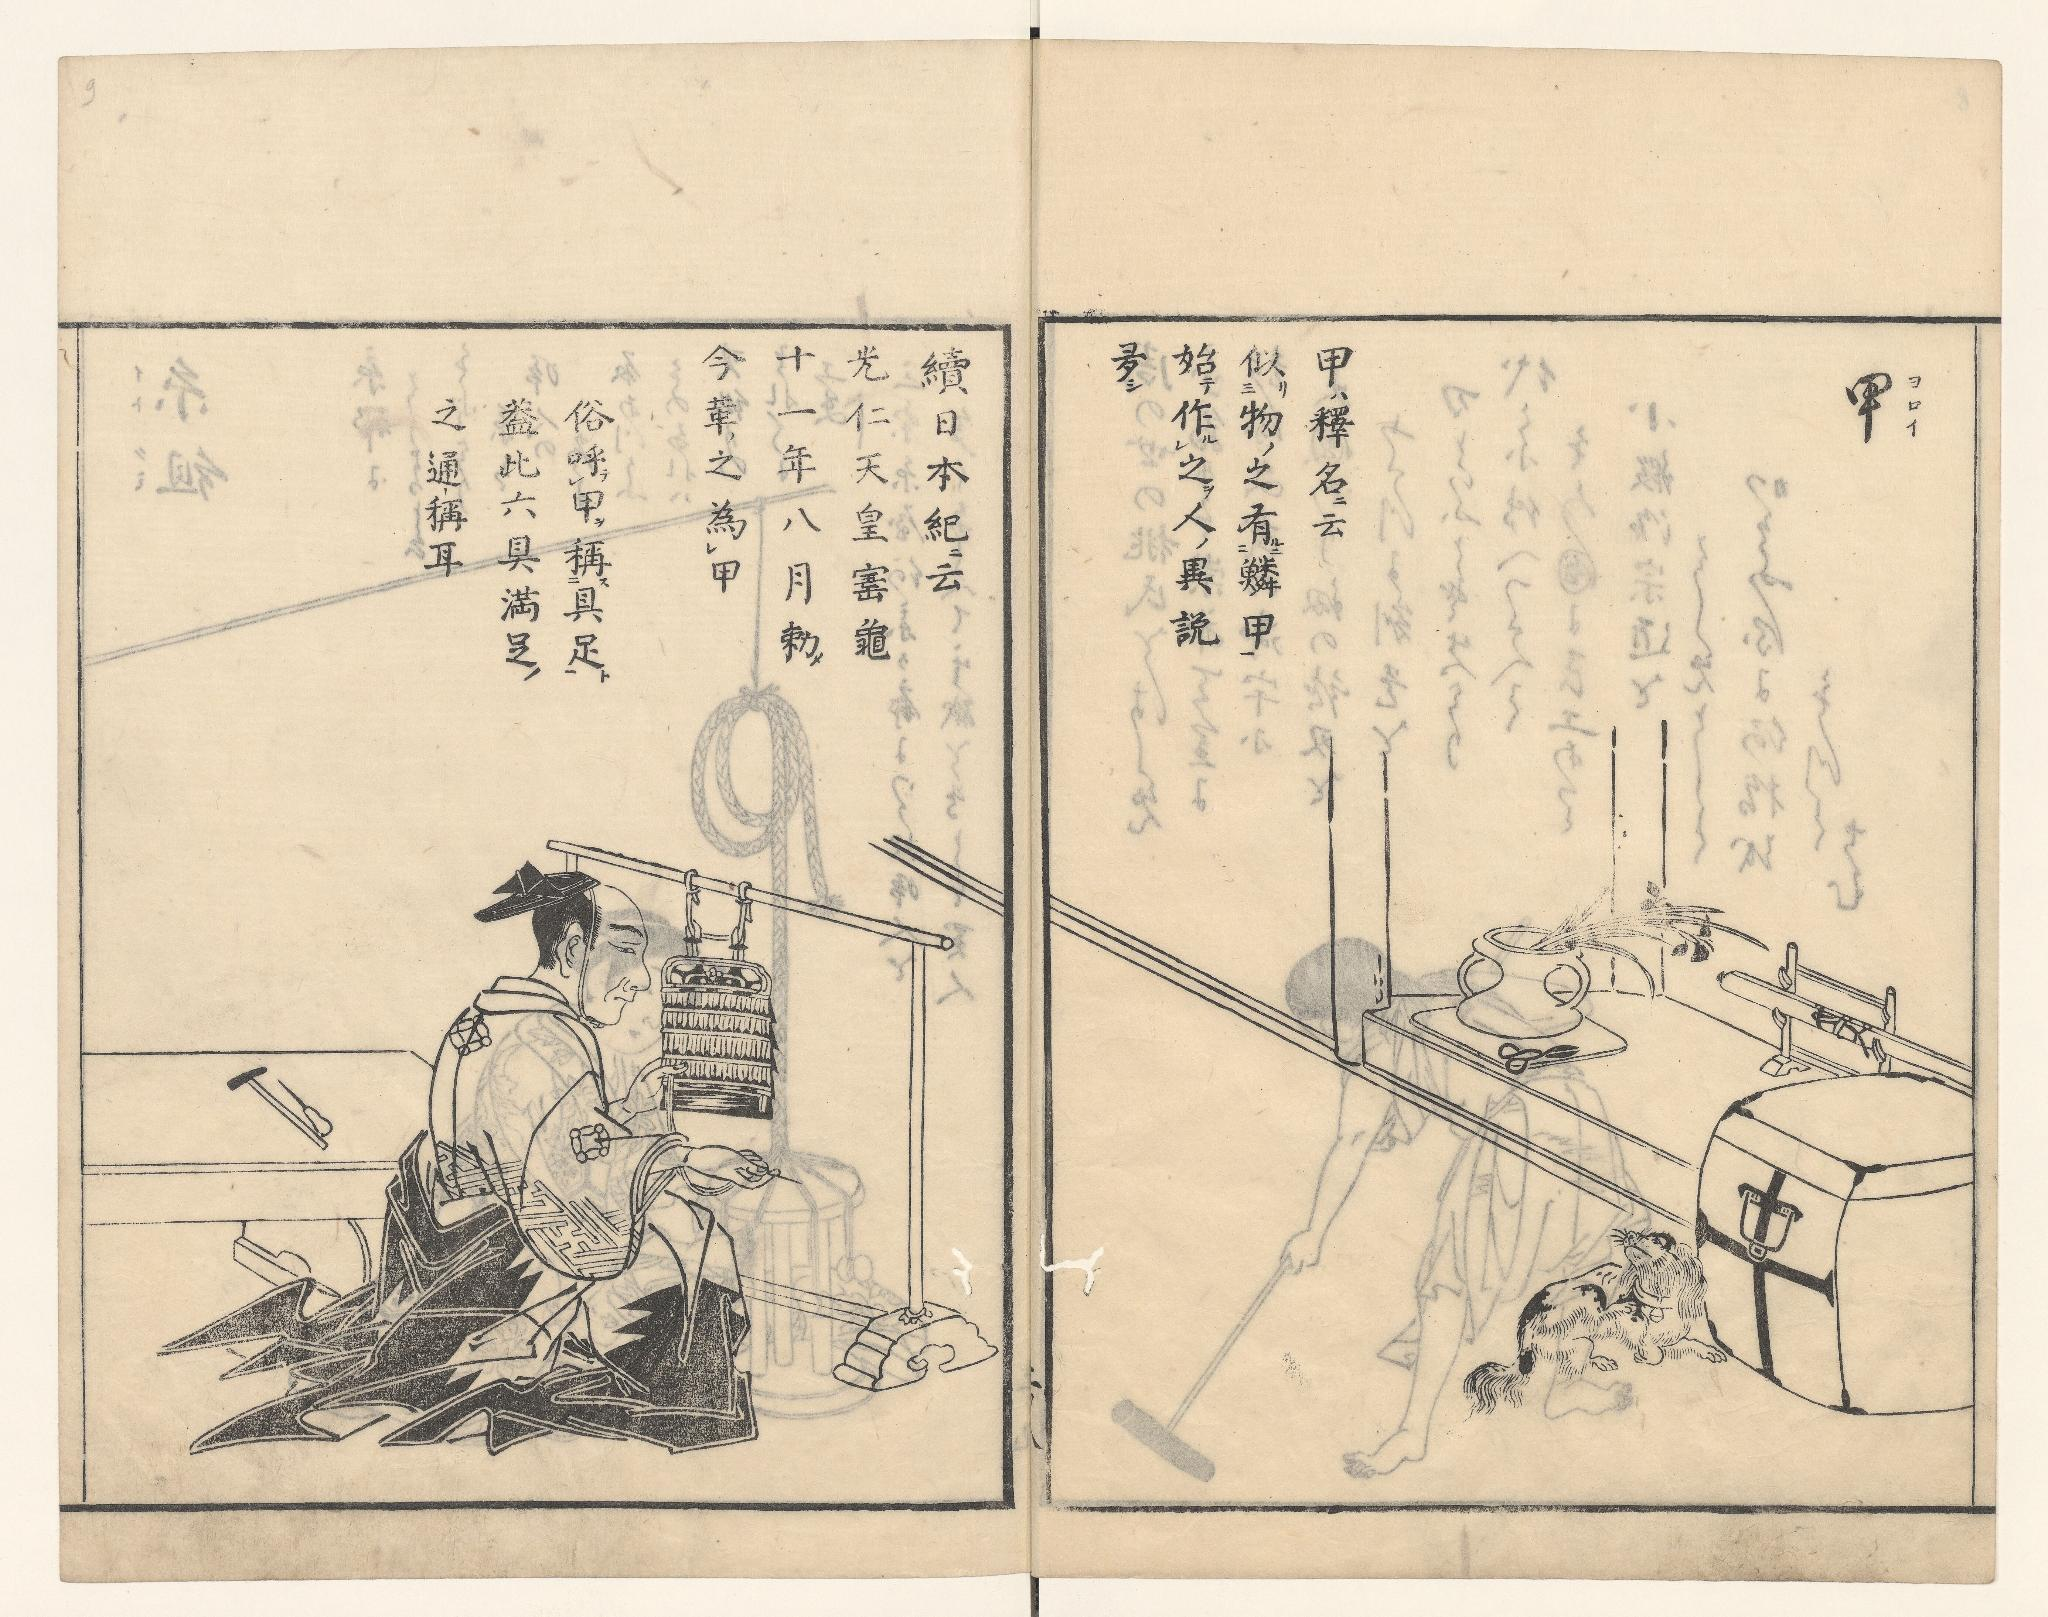MainZone-Character: (1835, 354, 1932, 455)
MainZone-Ruby: (1902, 366, 1925, 444)
